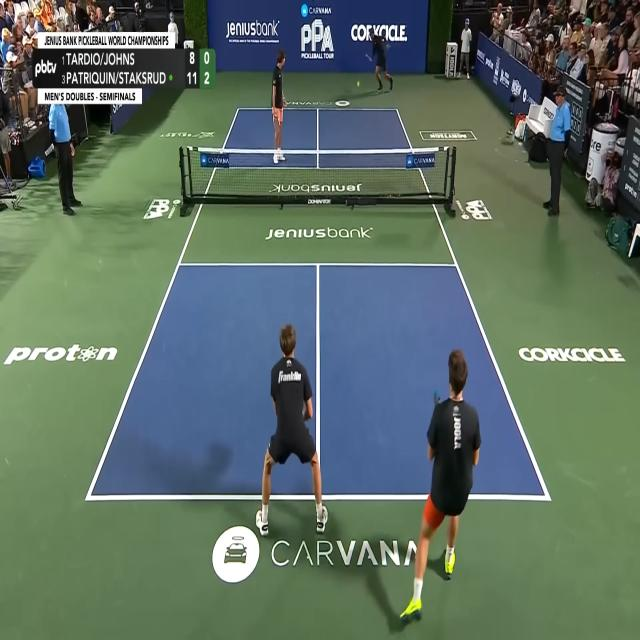ball: (357, 80, 360, 88)
